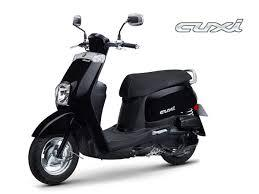motorcycle: (23, 11, 210, 185)
